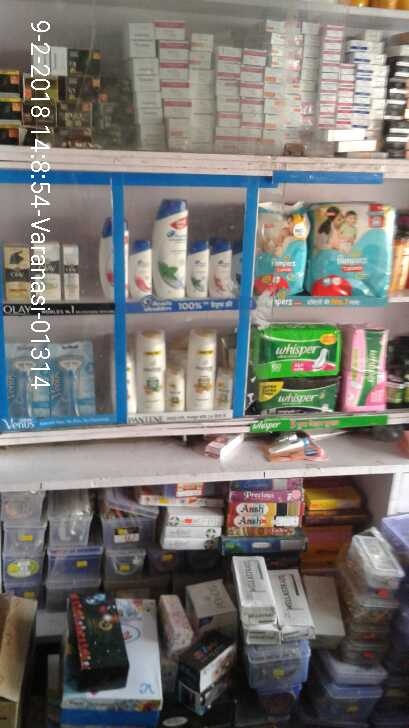venus: (5, 346, 51, 418), (51, 344, 91, 418)
